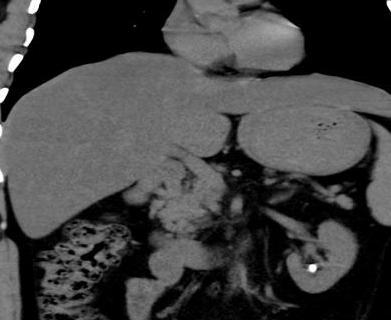Tas_Var: (307, 262, 319, 274)
